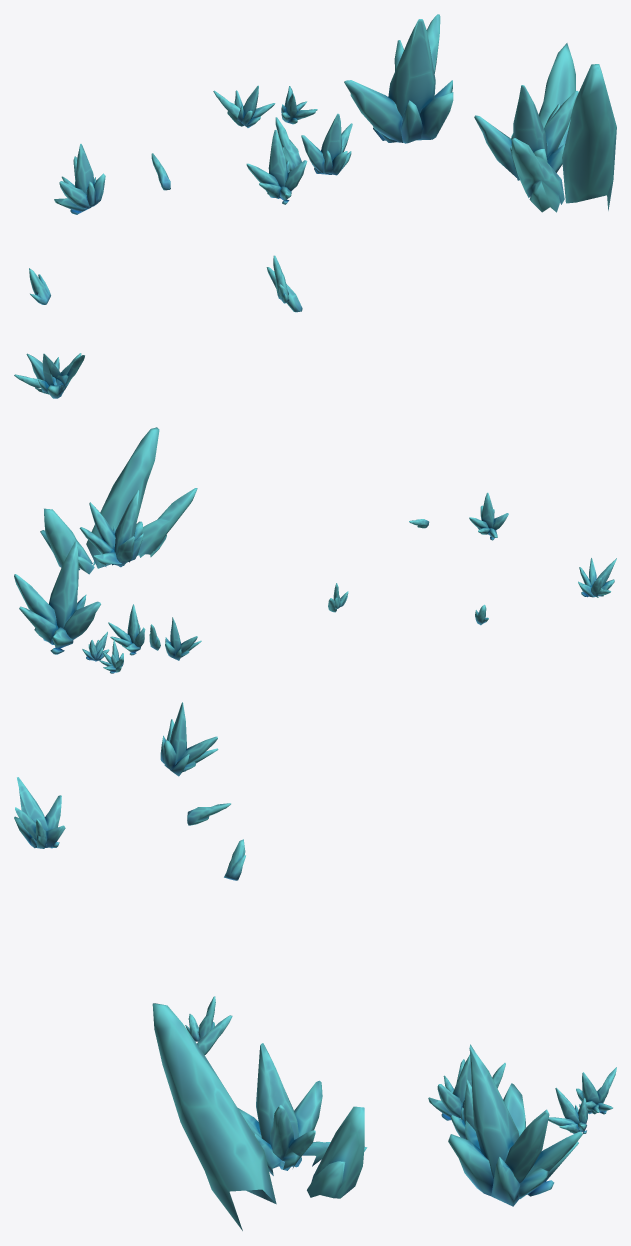
The model's file is scenes_bing_01.FBX.
3 renders of one model, top to bottom at view 1: azimuth 30°, elevation 25°; view 2: azimuth 150°, elevation 25°; view 3: azimuth 270°, elevation 25°, orthographic. The views are drawn at different scales.
Visible parts, largest first — view 1: bud_xuedi_bing1__14_; view 2: bud_xuedi_bing1__14_; view 3: bud_xuedi_bing1__14_.
Part boxes in pixels (bbox=[...]): bud_xuedi_bing1__14_: bbox=[14, 14, 616, 398]; bud_xuedi_bing1__14_: bbox=[14, 427, 616, 673]; bud_xuedi_bing1__14_: bbox=[14, 702, 616, 1230].
Bounding box in the file's own units: 15467 × 4812 × 10628.
